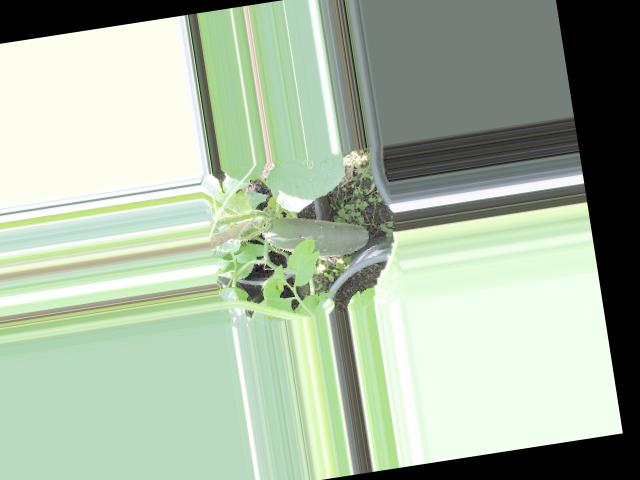cucumber: (261, 204, 370, 266)
